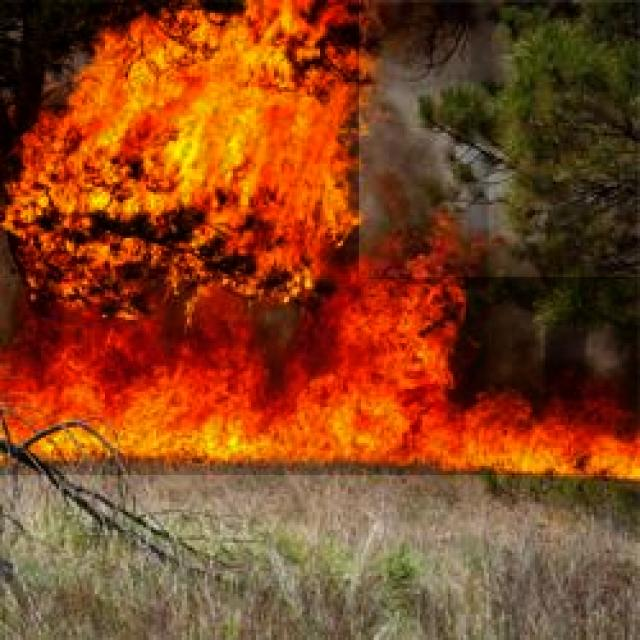Fire: (0, 277, 640, 475), (0, 0, 359, 278)
